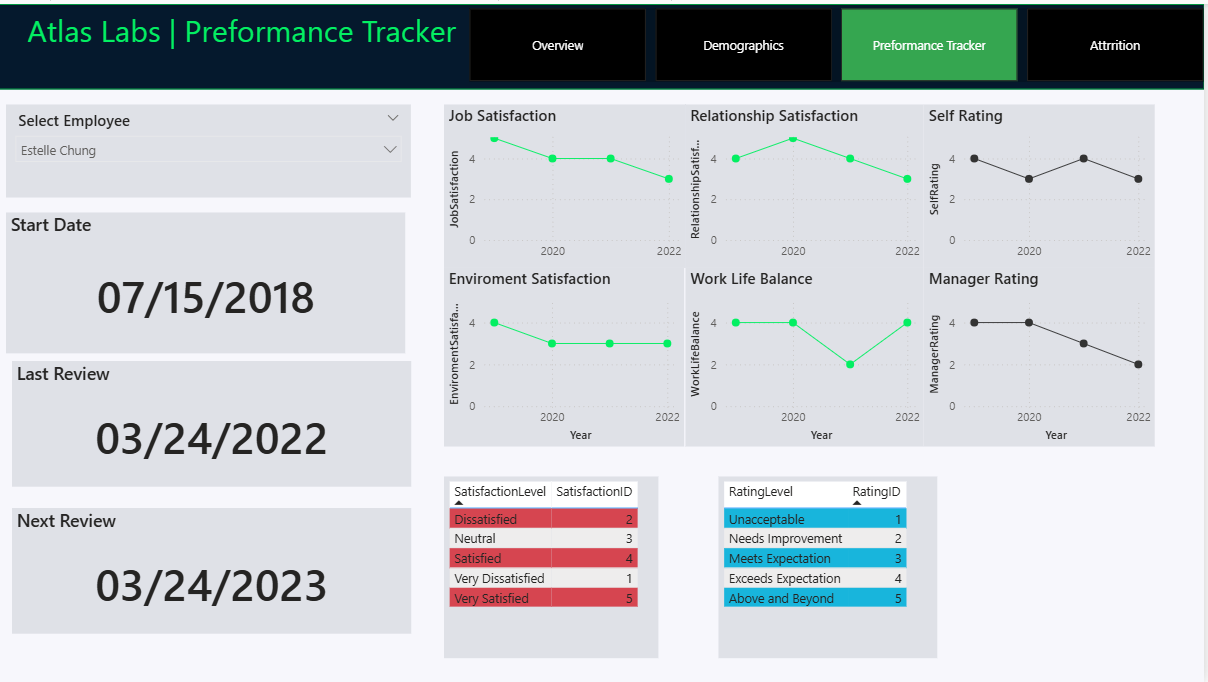

What the dashboard file says about the page in this screenshot:
{"tool":"powerbi","page":{"name":"Preformance Tracker","canvas":[1280,720],"ordinal":2},"visuals":[{"type":"slicer","fields":{"Values":["DimEmployee.FullName"]},"box":[9.5,106.6,429.5,98.6],"z":0},{"type":"card","title":"Start Date ","fields":{"Values":["Min(DimEmployee.HireDate)"]},"box":[9.5,221.1,423.1,149.5],"z":1000},{"type":"card","title":"Last Review ","fields":{"Values":["__Measures.LastReviewDate"]},"box":[15.9,378.6,423.1,133.6],"z":2000},{"type":"card","title":"Next Review ","fields":{"Values":["__Measures.NextReviewDate"]},"box":[15.9,534.4,423.1,133.6],"z":3000},{"type":"lineChart","title":"Job Satisfaction","fields":{"Category":["DimDate.Year"],"Y":["__Measures.JobSatisfaction"]},"box":[474,106.6,256.1,173.4],"z":4000},{"type":"lineChart","title":"Relationship Satisfaction ","fields":{"Category":["DimDate.Year"],"Y":["__Measures.RelationshipSatisfaction"]},"box":[730.1,106.6,252.9,173.4],"z":5000},{"type":"lineChart","title":"Self Rating ","fields":{"Category":["DimDate.Year"],"Y":["__Measures.SelfRating"]},"box":[983,106.6,245,173.4],"z":6000},{"type":"lineChart","title":"Manager Rating ","fields":{"Category":["DimDate.Year"],"Y":["__Measures.ManagerRating"]},"box":[983,279.9,245,189.3],"z":7000},{"type":"lineChart","title":"Work Life Balance","fields":{"Category":["DimDate.Year"],"Y":["__Measures.WorkLifeBalance"]},"box":[730.1,279.9,252.9,189.3],"z":8000},{"type":"lineChart","title":"Enviroment Satisfaction","fields":{"Category":["DimDate.Year"],"Y":["__Measures.EnviromentSatisfaction"]},"box":[474,279.9,254.5,189.3],"z":9000},{"type":"tableEx","fields":{"Values":["DimSatisfiedLevel.SatisfactionLevel","DimSatisfiedLevel.SatisfactionID"]},"box":[474,501,227.5,192.5],"z":10000},{"type":"tableEx","fields":{"Values":["DimRatingLevel.RatingLevel","DimRatingLevel.RatingID"]},"box":[765.1,501,232.2,192.5],"z":11000},{"type":"shape","box":[0,0,1280.4,90.7],"z":12000},{"type":"textbox","box":[27,0,474,90.7],"z":13000},{"type":"pageNavigator","box":[480,4.1,800,79],"z":13001}]}

Visuals, with their boxes in screenshot pixels (x1, y1, x2, y2), scaled from the page's 1280x720 canvas onto the 1208x682 screenshot:
slicer - DimEmployee.FullName: 9, 101, 414, 194
"Start Date " card: 9, 209, 408, 351
"Last Review " card: 15, 359, 414, 485
"Next Review " card: 15, 506, 414, 633
"Job Satisfaction" lineChart: 447, 101, 689, 265
"Relationship Satisfaction " lineChart: 689, 101, 928, 265
"Self Rating " lineChart: 928, 101, 1159, 265
"Manager Rating " lineChart: 928, 265, 1159, 444
"Work Life Balance" lineChart: 689, 265, 928, 444
"Enviroment Satisfaction" lineChart: 447, 265, 688, 444
tableEx - DimSatisfiedLevel.SatisfactionLevel x DimSatisfiedLevel.SatisfactionID: 447, 475, 662, 657
tableEx - DimRatingLevel.RatingLevel x DimRatingLevel.RatingID: 722, 475, 941, 657
shape: 0, 0, 1207, 86
textbox: 25, 0, 473, 86
pageNavigator: 453, 4, 1207, 79
